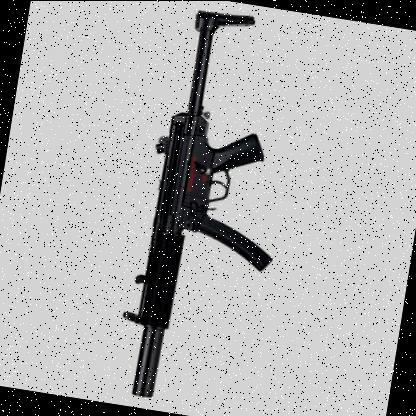rifle: (86, 0, 310, 416)
